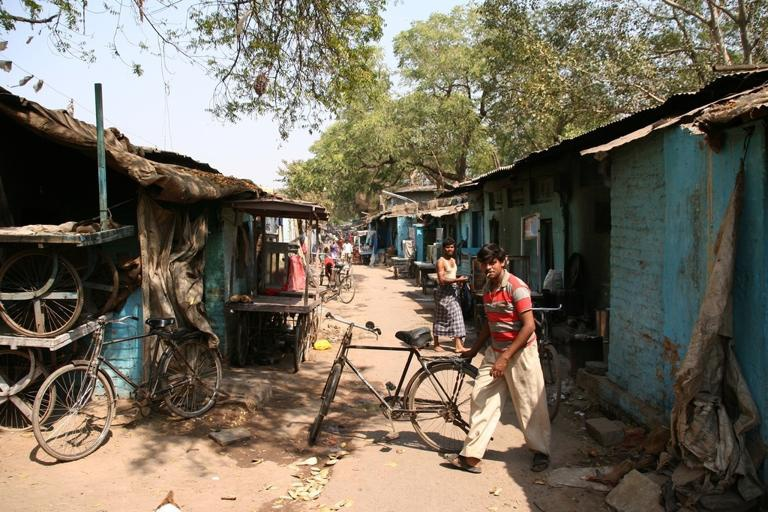non-vehicle: (31, 310, 223, 461), (305, 311, 494, 453), (530, 302, 564, 422), (333, 262, 356, 303)
